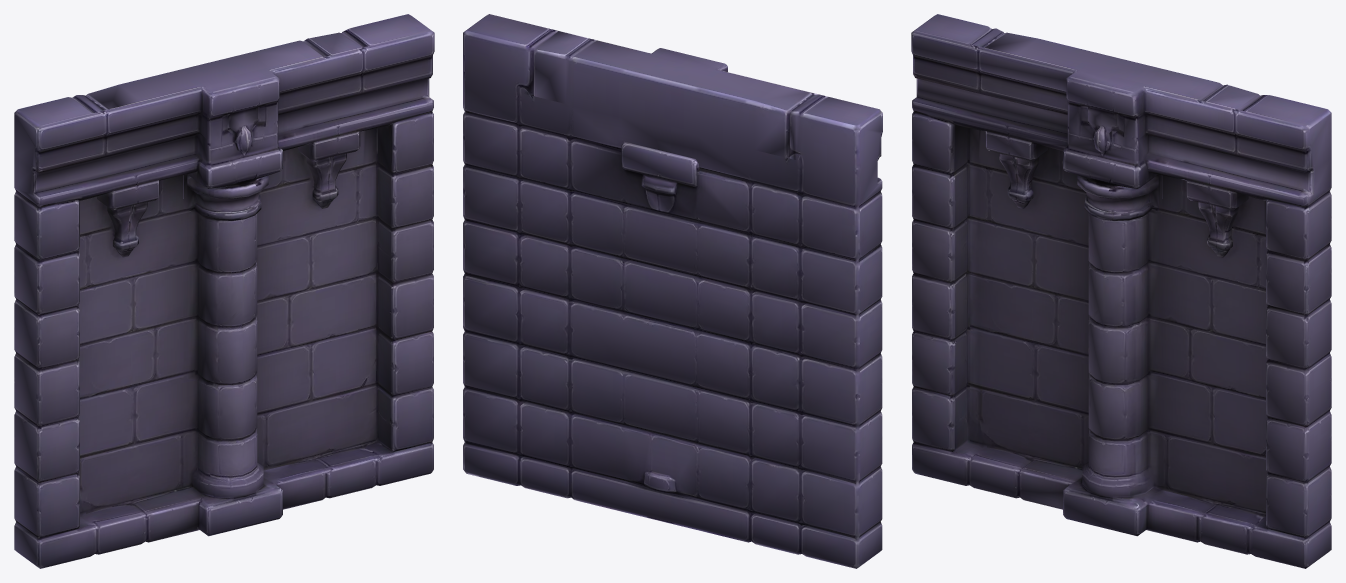
The model's file is castle-wall.glb.
3 views of the same model, side by side, from view 1: azimuth 30°, elevation 25°; view 2: azimuth 150°, elevation 25°; view 3: azimuth 330°, elevation 25° (orthographic).
Parts seen in each view (by area): view 1: mesh_rep_0_ori_repair; view 2: mesh_rep_0_ori_repair; view 3: mesh_rep_0_ori_repair.
Boxes of the visible parts, x1,y1,x2,y2 form: mesh_rep_0_ori_repair: (14,14,434,568); mesh_rep_0_ori_repair: (463,14,882,568); mesh_rep_0_ori_repair: (911,14,1331,568).
Bounding box in the file's own units: 0.8235 × 0.8784 × 0.1475.
Materials: 1 (1 with a texture image).
